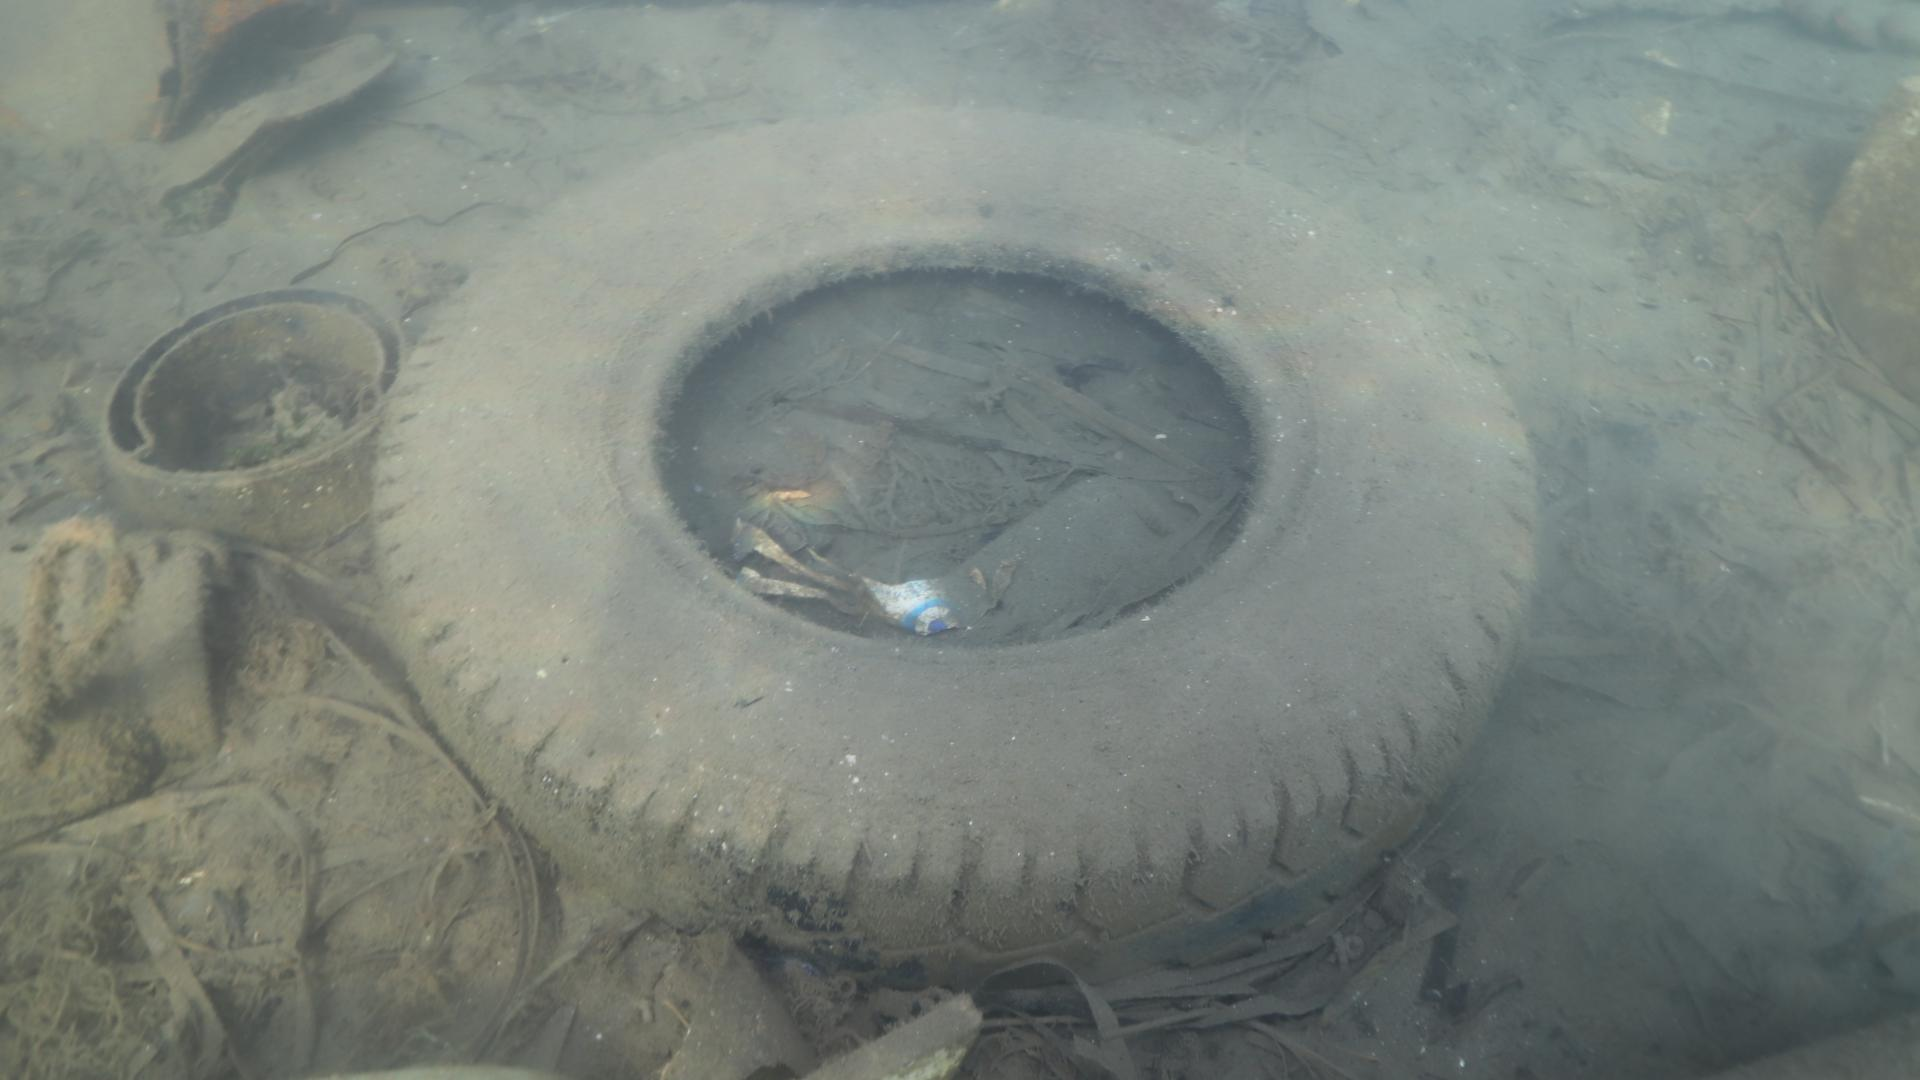tire: (365, 100, 1544, 982)
